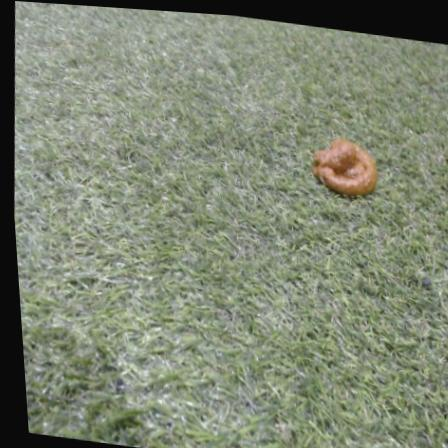dog-poop: (308, 129, 378, 194)
